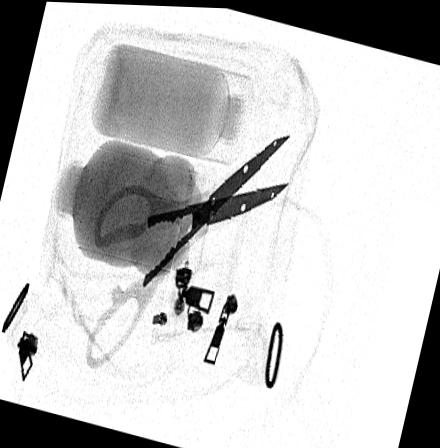Scissors: (79, 125, 294, 376)
